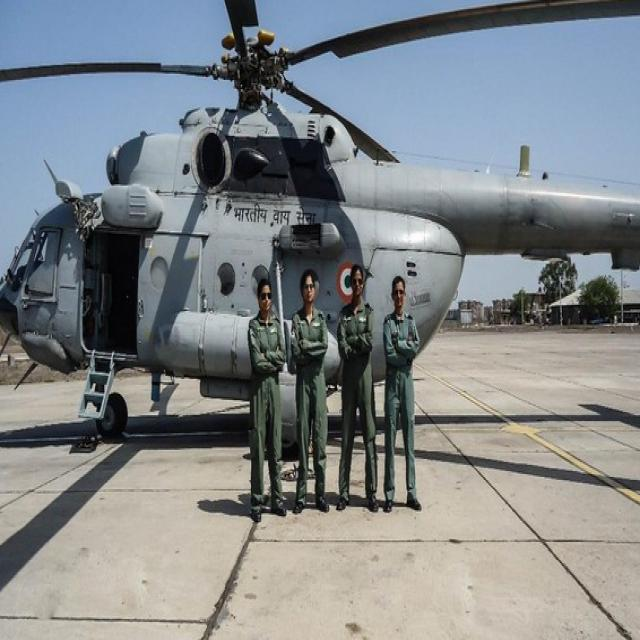helicopter: (1, 1, 640, 455)
